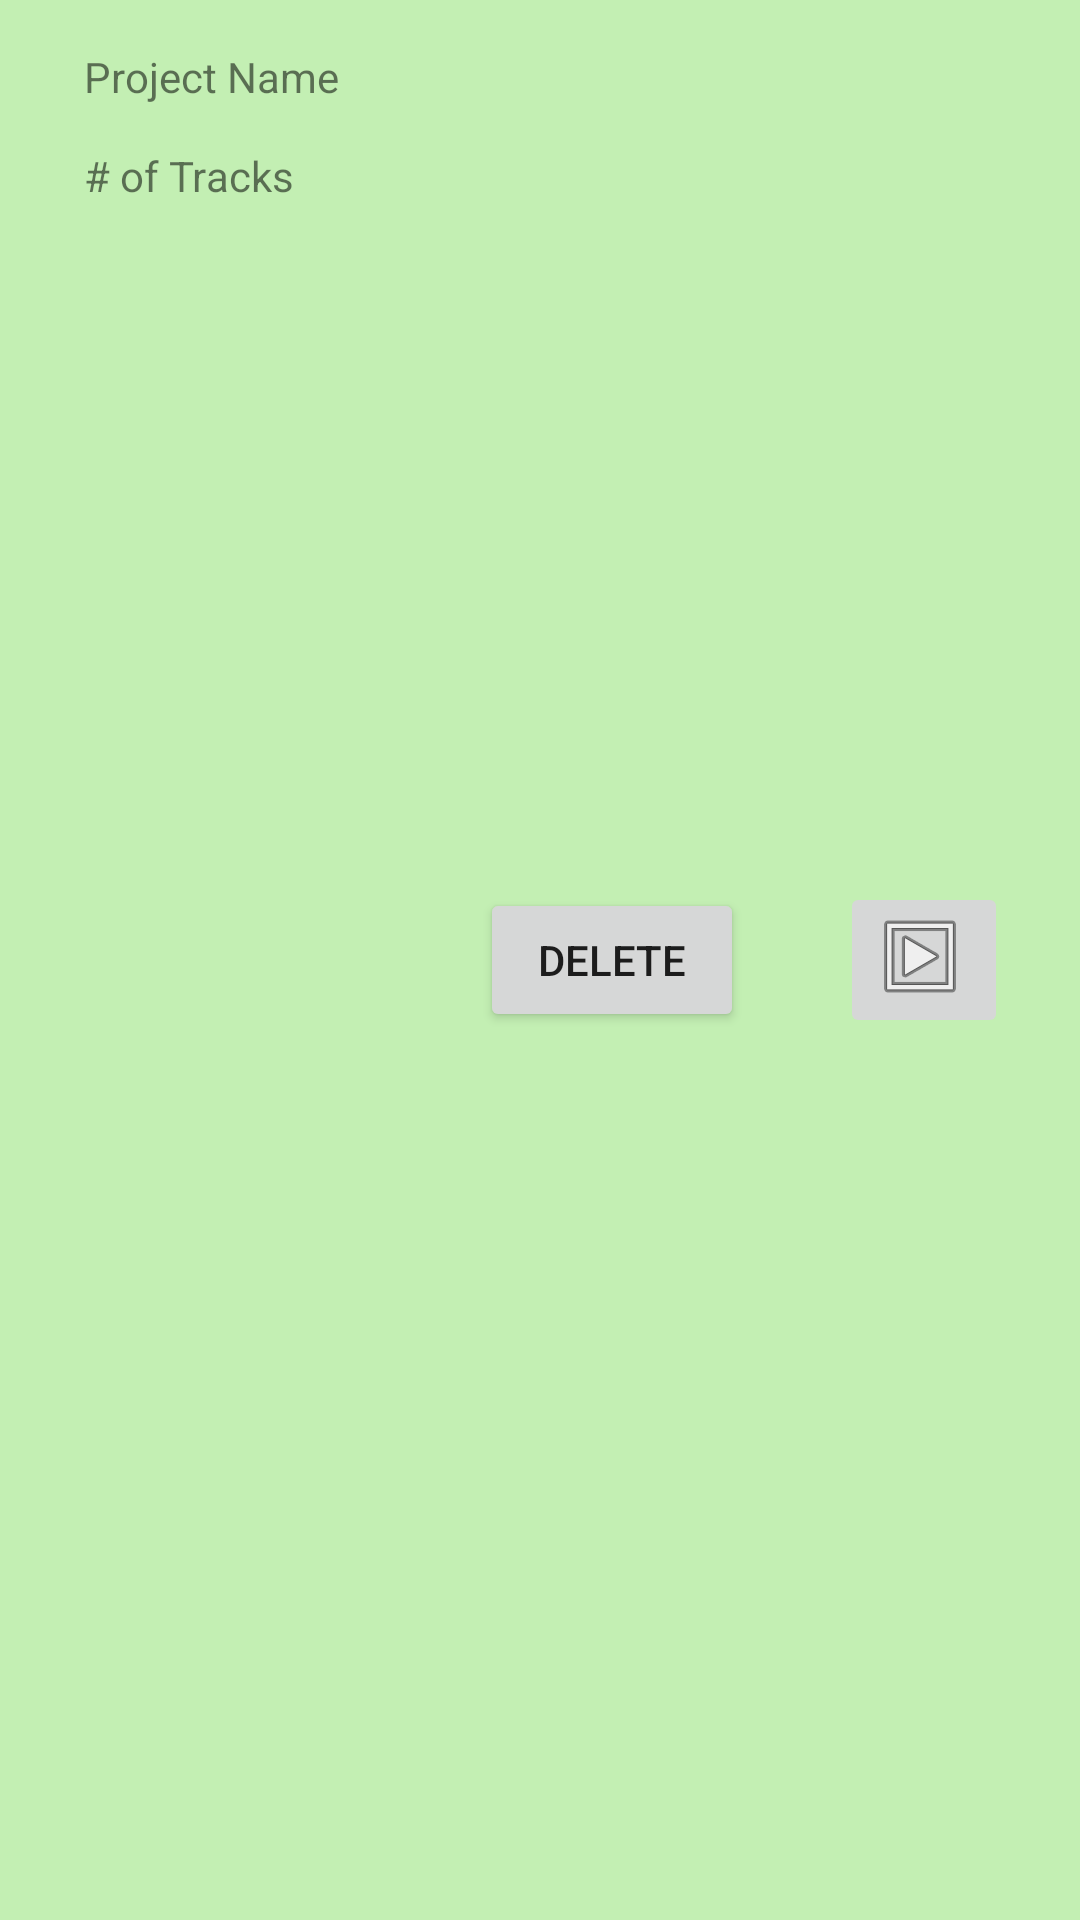

Icons on this 1080x1920 Android screen, each with its box as (x1, y1, x2, y2):
slideshow: (852, 900, 996, 1020)
